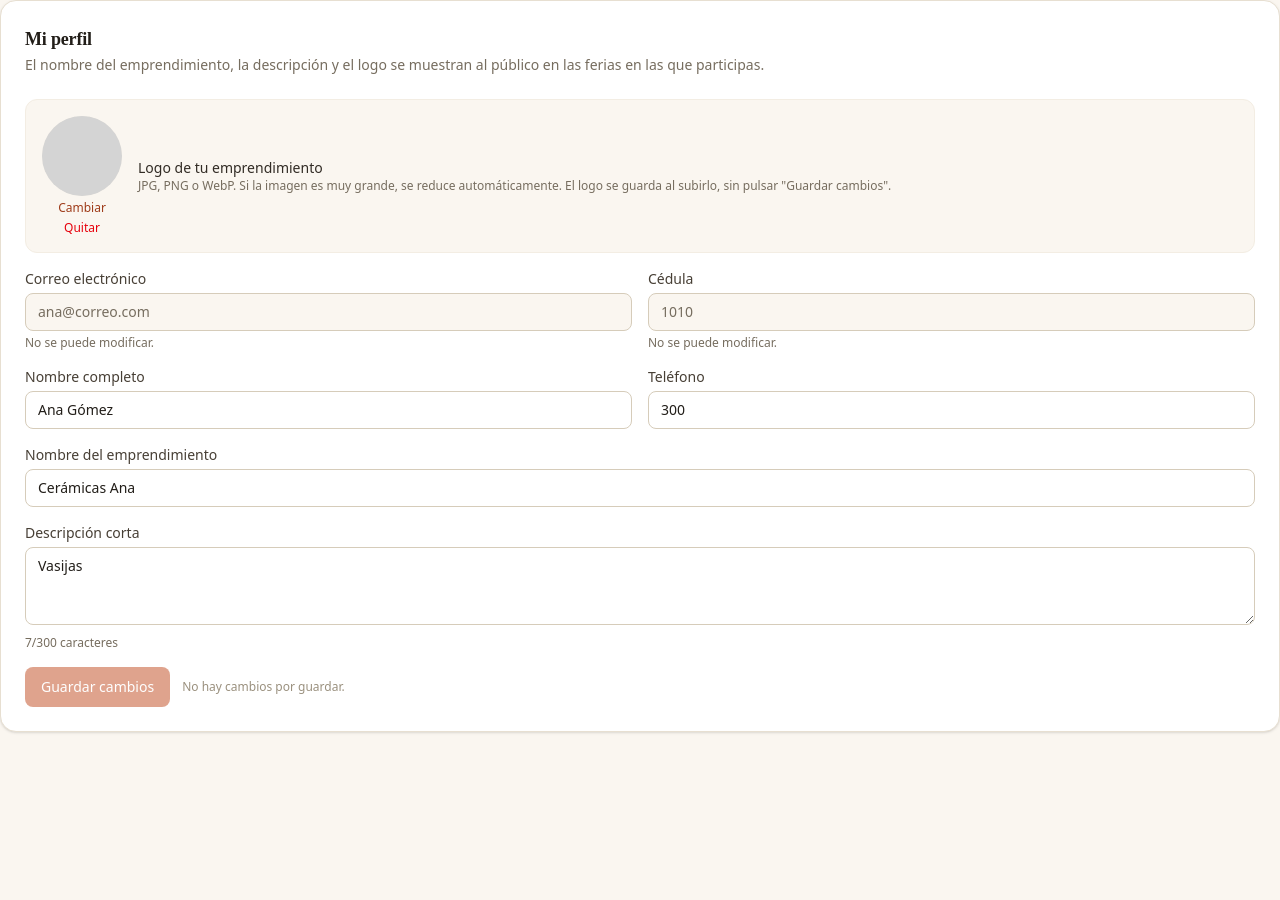
Test case: MiPerfil › al editar habilita Guardar, guarda, actualiza la sesión y confirma
Replace the text in the field labelled "Nombre completo" with "Ana G." at (328, 410), box [25, 391, 632, 429]
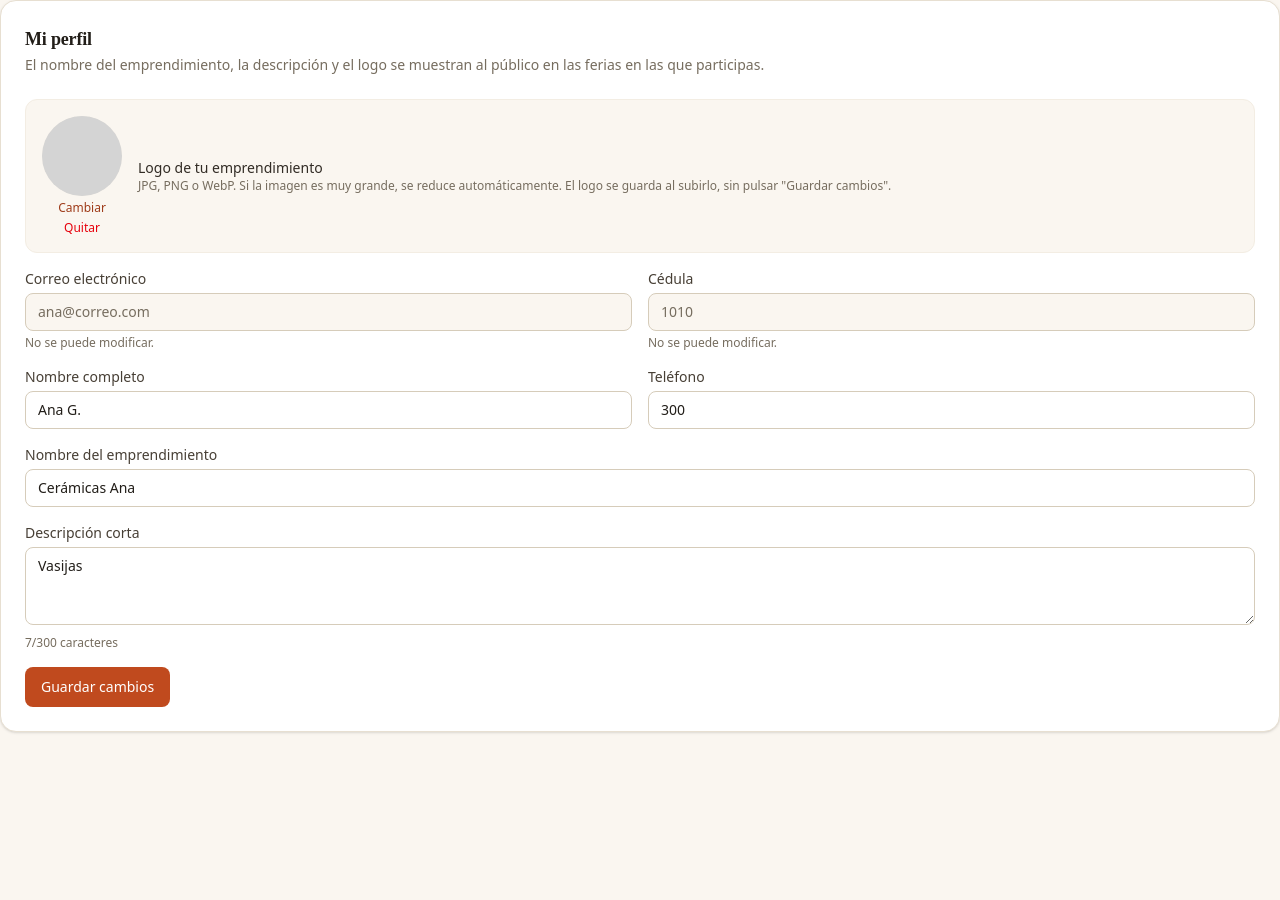
Expected: the button "Guardar cambios" is enabled
Click the button "Guardar cambios" at (98, 687), box [25, 667, 170, 707]
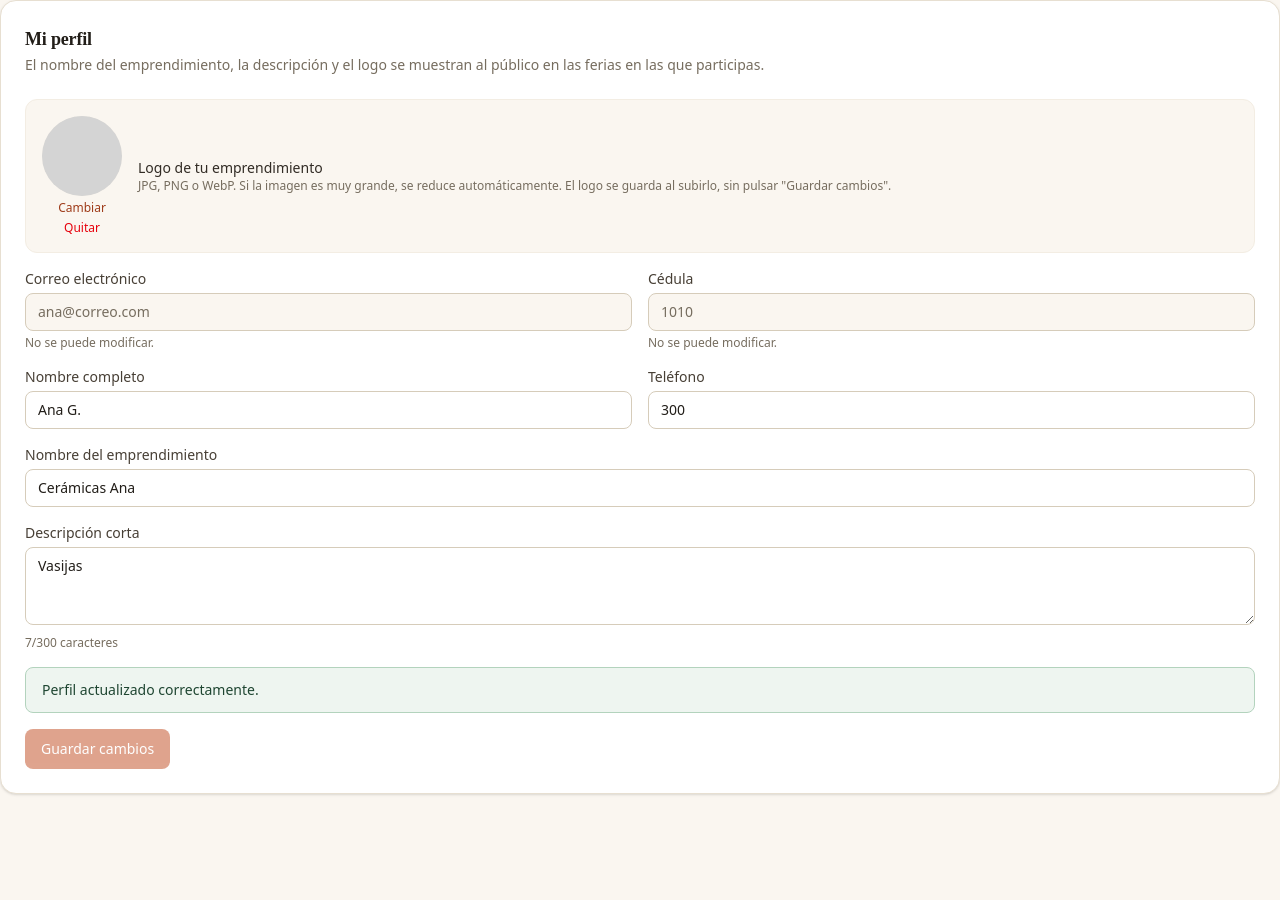
Expected: the text "Perfil actualizado correctamente." is shown, [25, 667, 1255, 713]
Expected: the button "Guardar cambios" is disabled, [25, 729, 170, 769]
